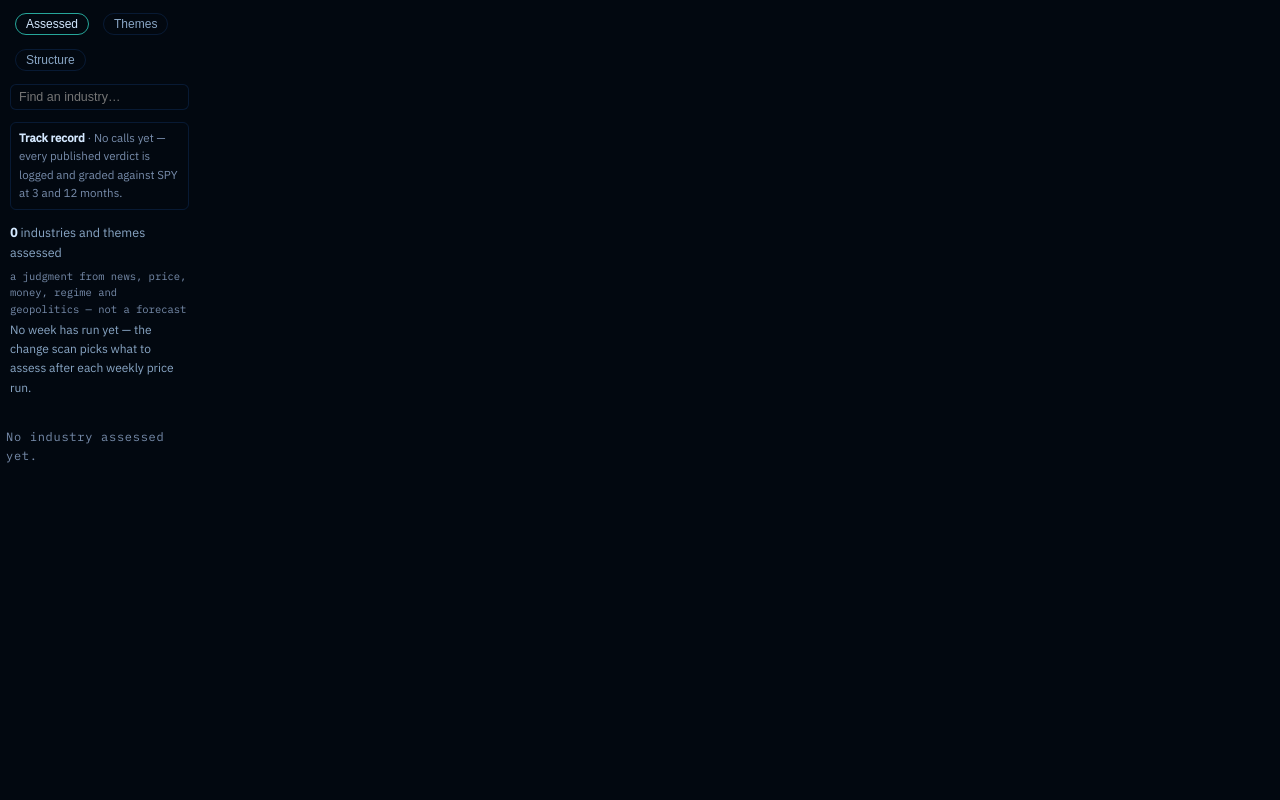
Test: IndustryView › shows each row's conclusion under its name, and what the cycle means when opened
Click the tab "Structure" at (50, 60), box [15,49,86,71]
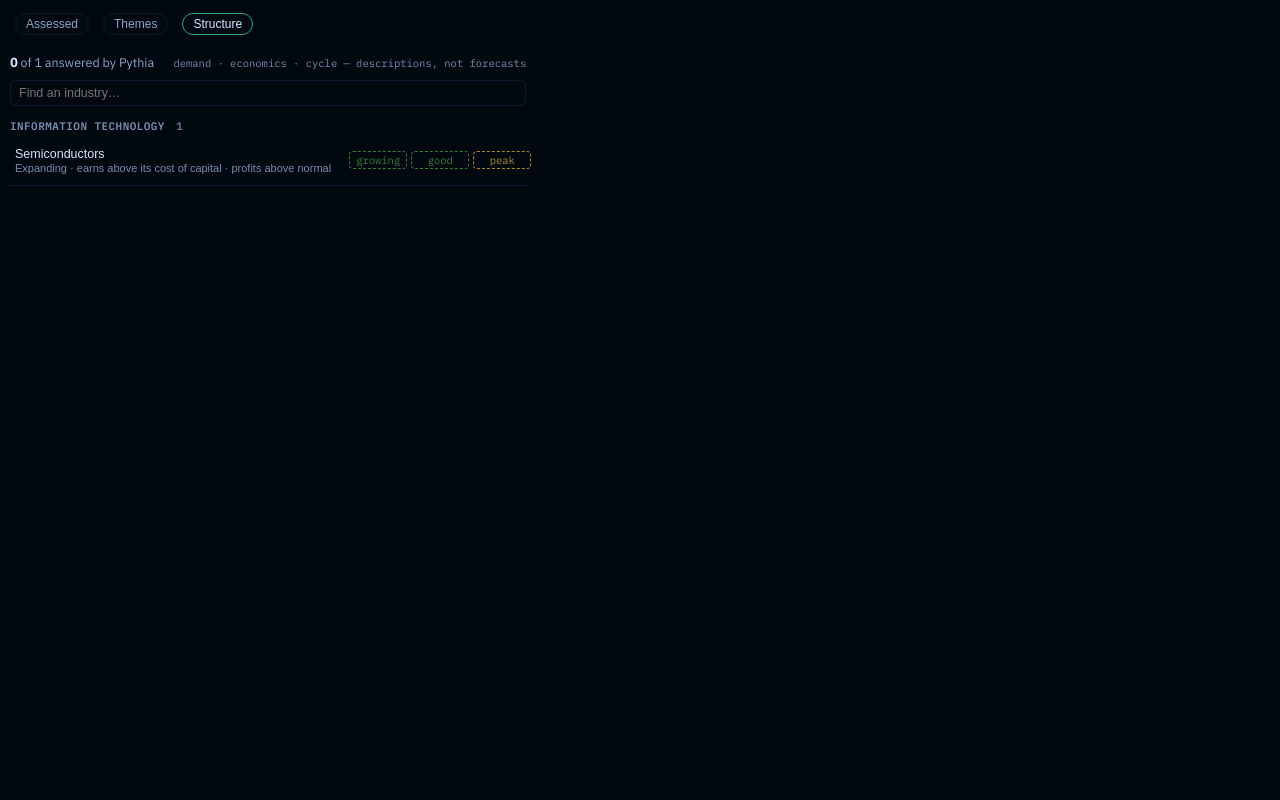
Expected: the text "Expanding · earns above its cost of capital · profits above normal" is shown, [15,162,341,174]
Click the text "Semiconductors" at (60, 154), box [15,147,105,161]
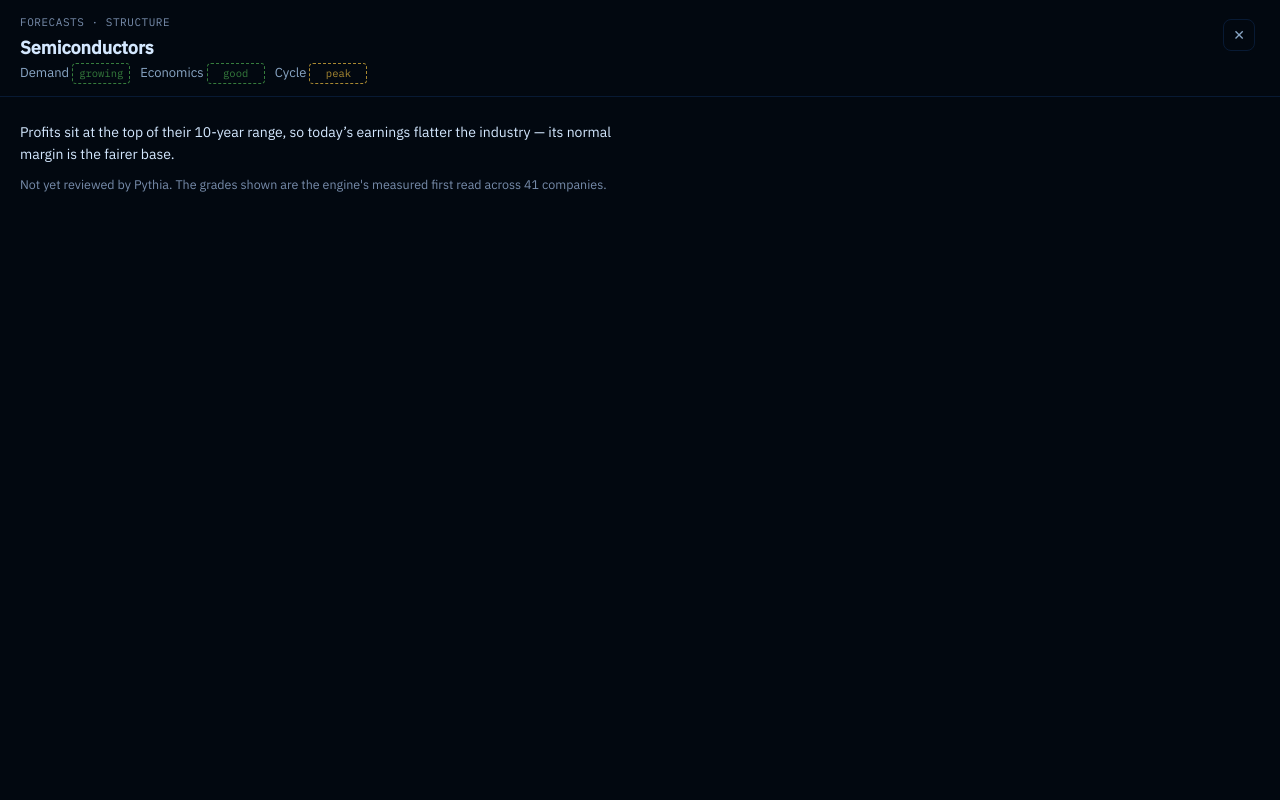
Expected: the text "today’s earnings flatter the industry" is shown, [20,123,611,163]
